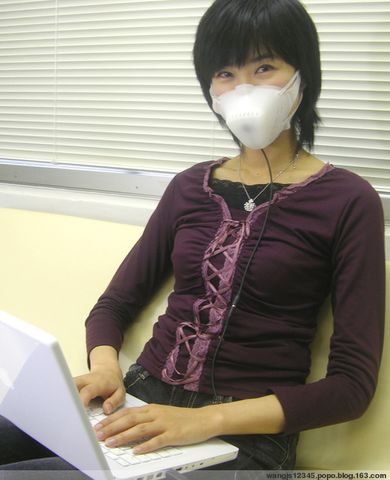mask: (205, 79, 303, 145)
